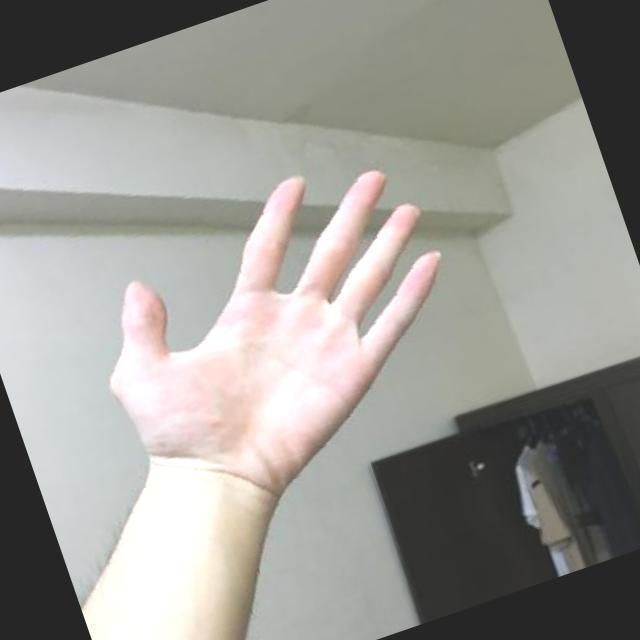hand: (41, 120, 516, 560)
